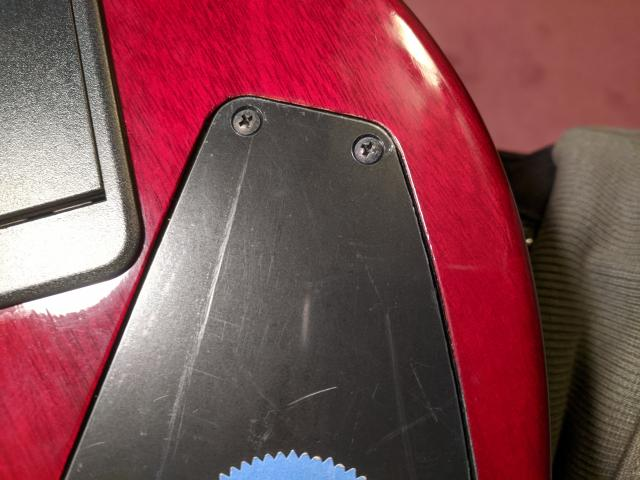CRS: (349, 130, 384, 164), (231, 103, 264, 135)
